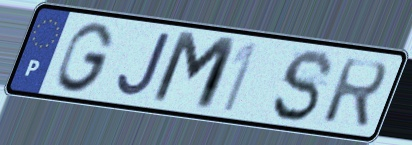1: (220, 40, 261, 115)
G: (54, 20, 117, 95)
J: (114, 31, 174, 100)
M: (146, 28, 242, 116)
R: (318, 55, 390, 131)
S: (268, 47, 337, 125)
